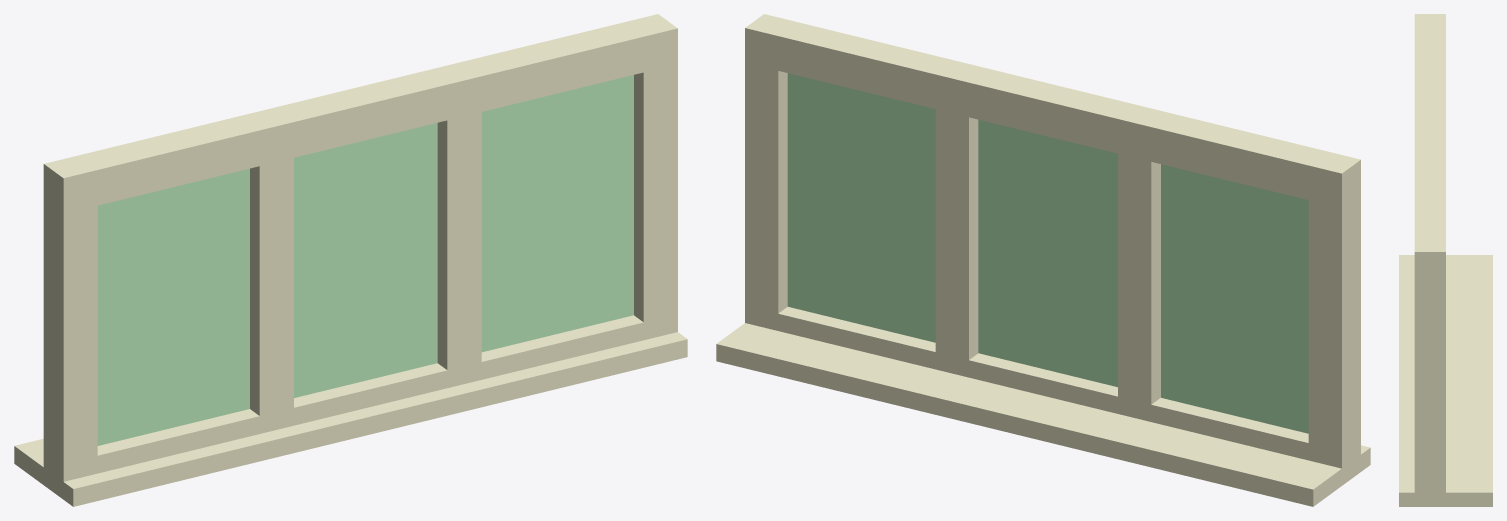
The model's file is Window_Large.glb.
The picture shows the model from 3 angles, left to right: view 1: azimuth 30°, elevation 25°; view 2: azimuth 150°, elevation 25°; view 3: azimuth 270°, elevation 25°; orthographic projection. The views are drawn at different scales.
Parts seen in each view (by area): view 1: Window Large; view 2: Window Large; view 3: Window Large.
Part boxes in pixels (x1=…): Window Large: x1=14, y1=14, x2=687, y2=506; Window Large: x1=716, y1=14, x2=1370, y2=506; Window Large: x1=1399, y1=14, x2=1492, y2=506.
Size of the model in its own units: 1.8 by 0.9 by 0.3.
